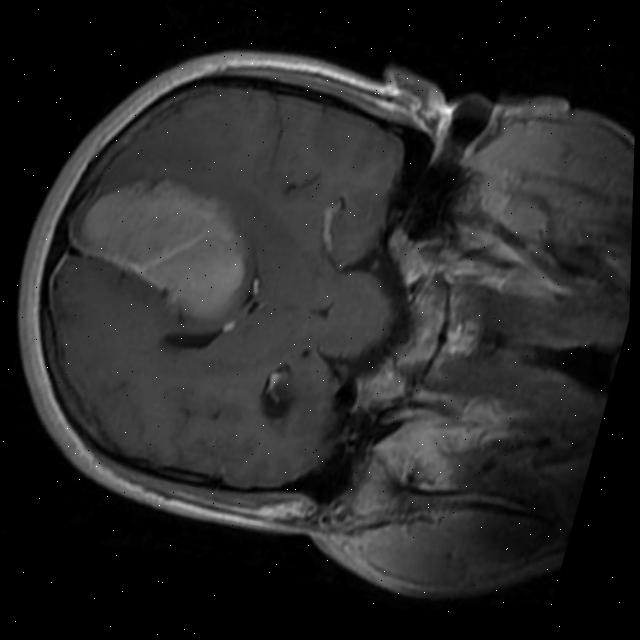Meningioma: (53, 150, 271, 337)
